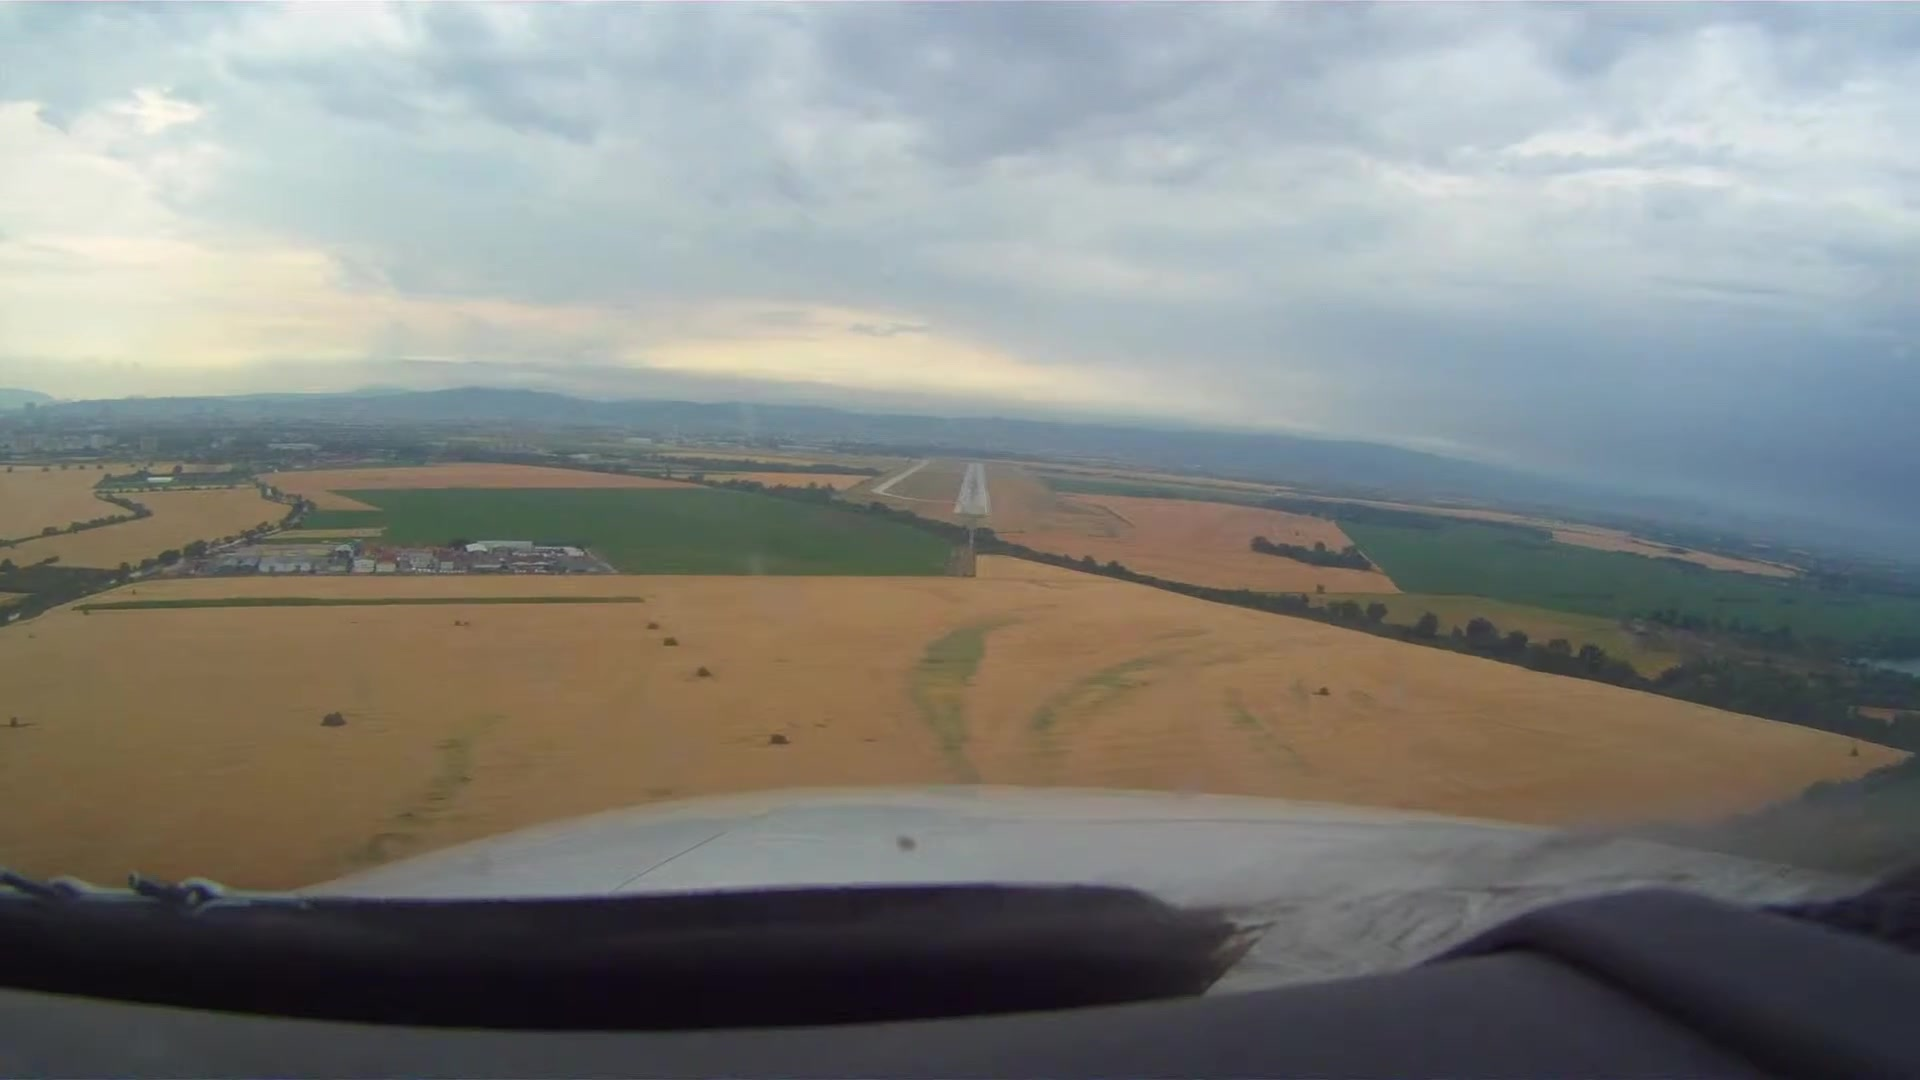runway: (951, 462, 994, 521)
